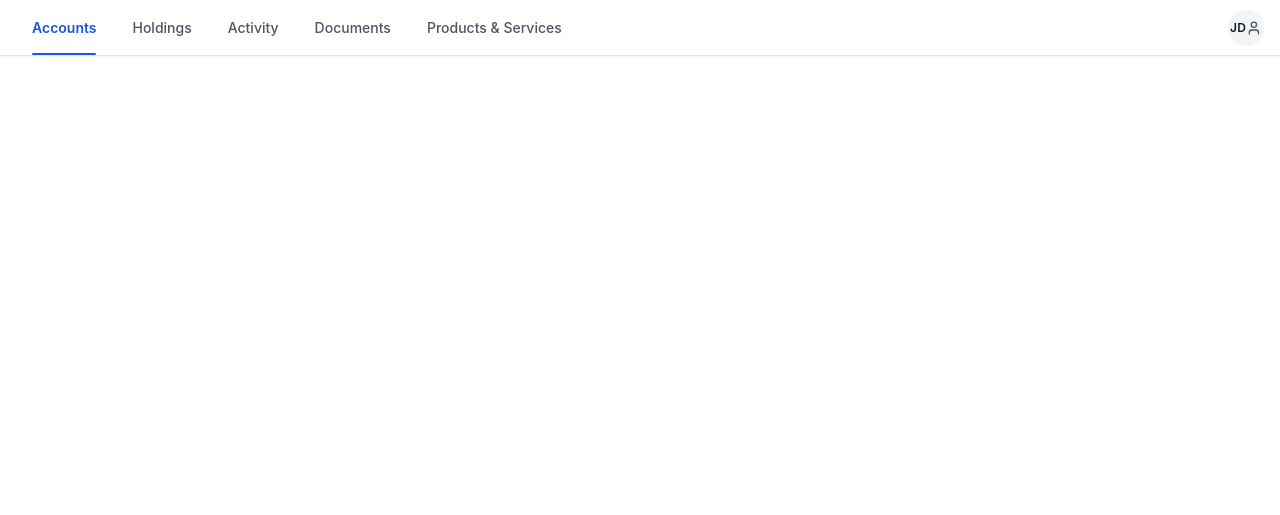
Test: NavigationBar › opens the profile menu when profile button is clicked
The image size is (1280, 515).
Click the button with aria-label "Open user menu" at (1246, 28), box [1228,10,1264,46]
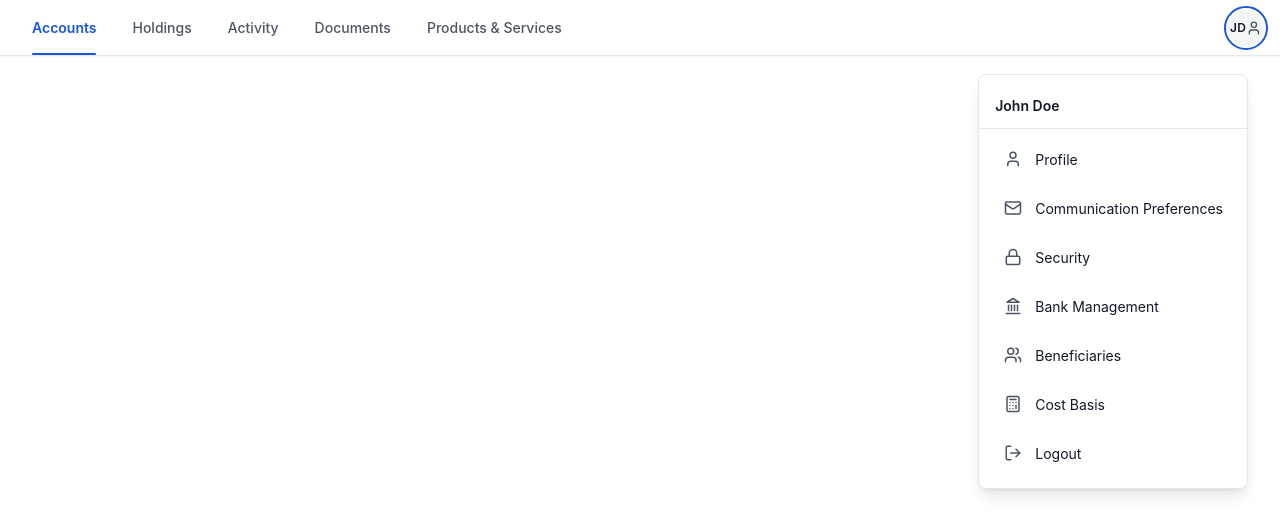
Check: the menu named "User menu" is shown, box [978,74,1248,488]
